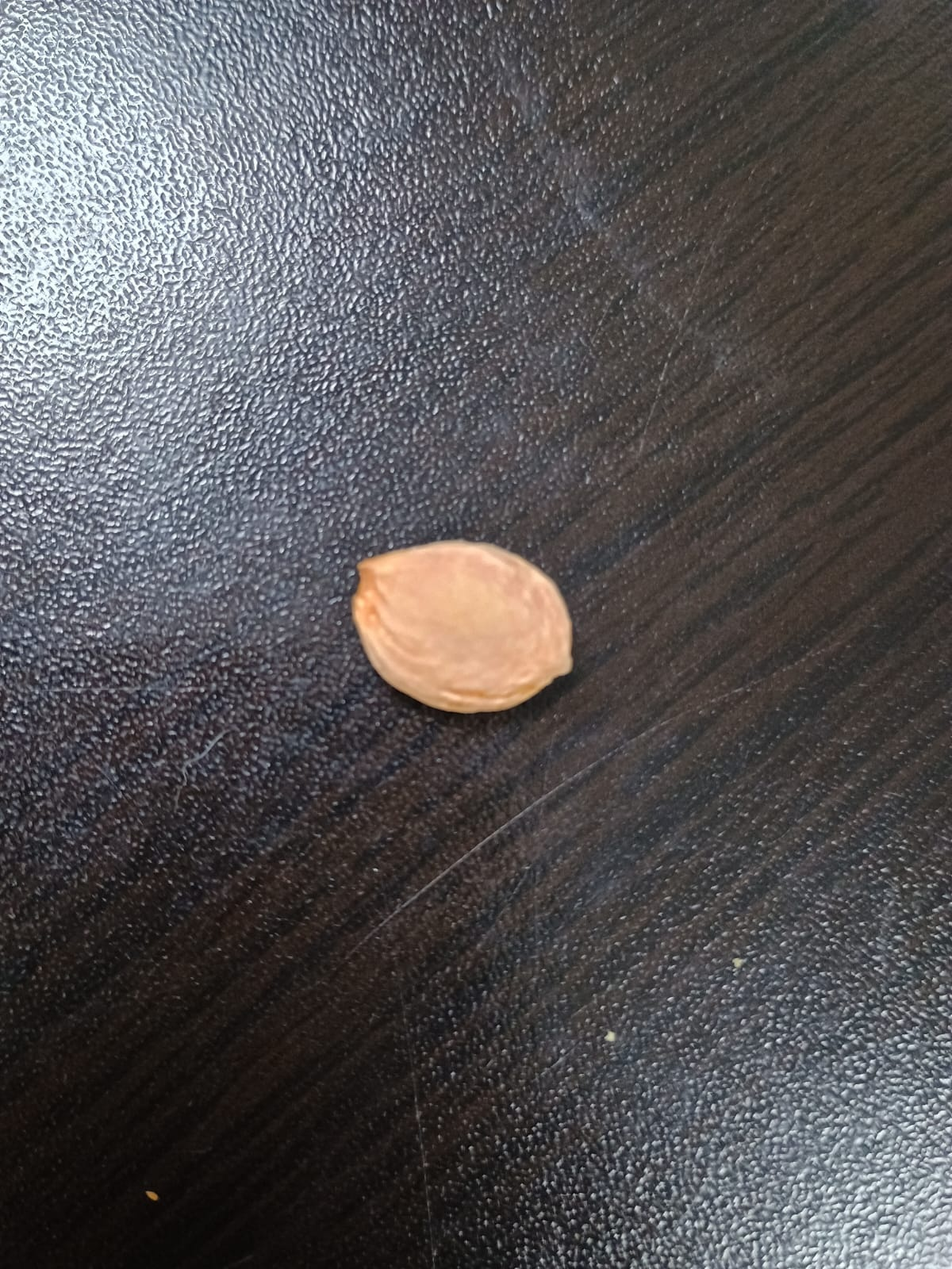Organico: (351, 536, 581, 719)
